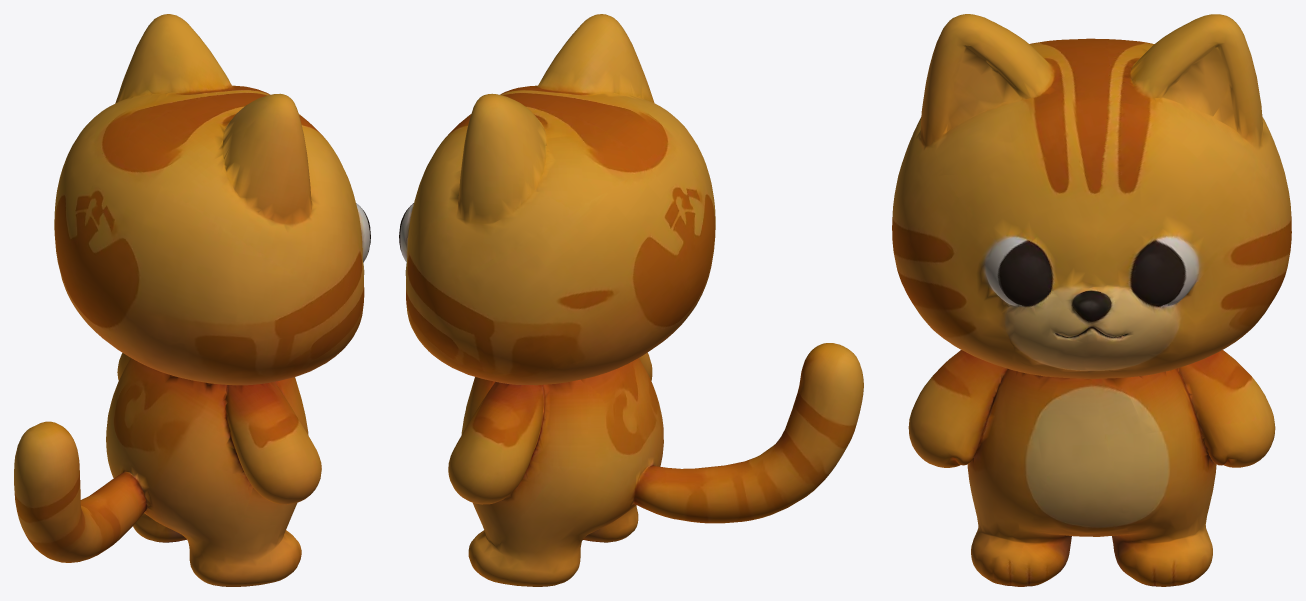
File: cat-orange.glb
3 renders of one model, left to right at view 1: azimuth 30°, elevation 25°; view 2: azimuth 150°, elevation 25°; view 3: azimuth 270°, elevation 25°, orthographic. The views are drawn at different scales.
Visible parts, largest first — view 1: tripo_node_a44402a9-ee68-449d-abb1-c086db405f70; view 2: tripo_node_a44402a9-ee68-449d-abb1-c086db405f70; view 3: tripo_node_a44402a9-ee68-449d-abb1-c086db405f70.
Part boxes in pixels (bbox=[...]): tripo_node_a44402a9-ee68-449d-abb1-c086db405f70: bbox=[14, 14, 370, 586]; tripo_node_a44402a9-ee68-449d-abb1-c086db405f70: bbox=[399, 14, 863, 586]; tripo_node_a44402a9-ee68-449d-abb1-c086db405f70: bbox=[892, 14, 1291, 586].
Size of the model in its own units: 0.8286 by 0.9996 by 0.6527.
1 material, 1 textured.
